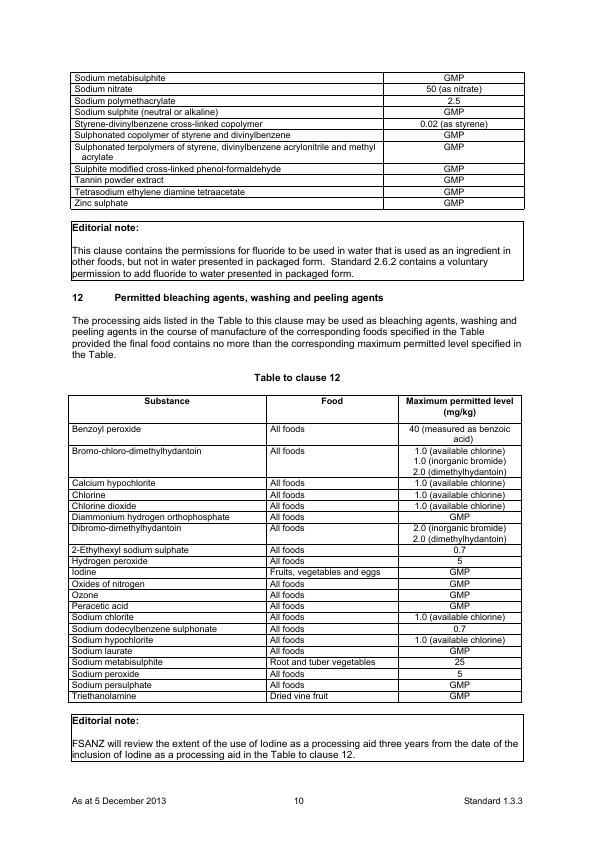table: (64, 392, 528, 707), (64, 63, 528, 214)
text: (67, 289, 531, 365), (69, 220, 523, 282), (69, 713, 523, 761), (253, 368, 345, 387)
